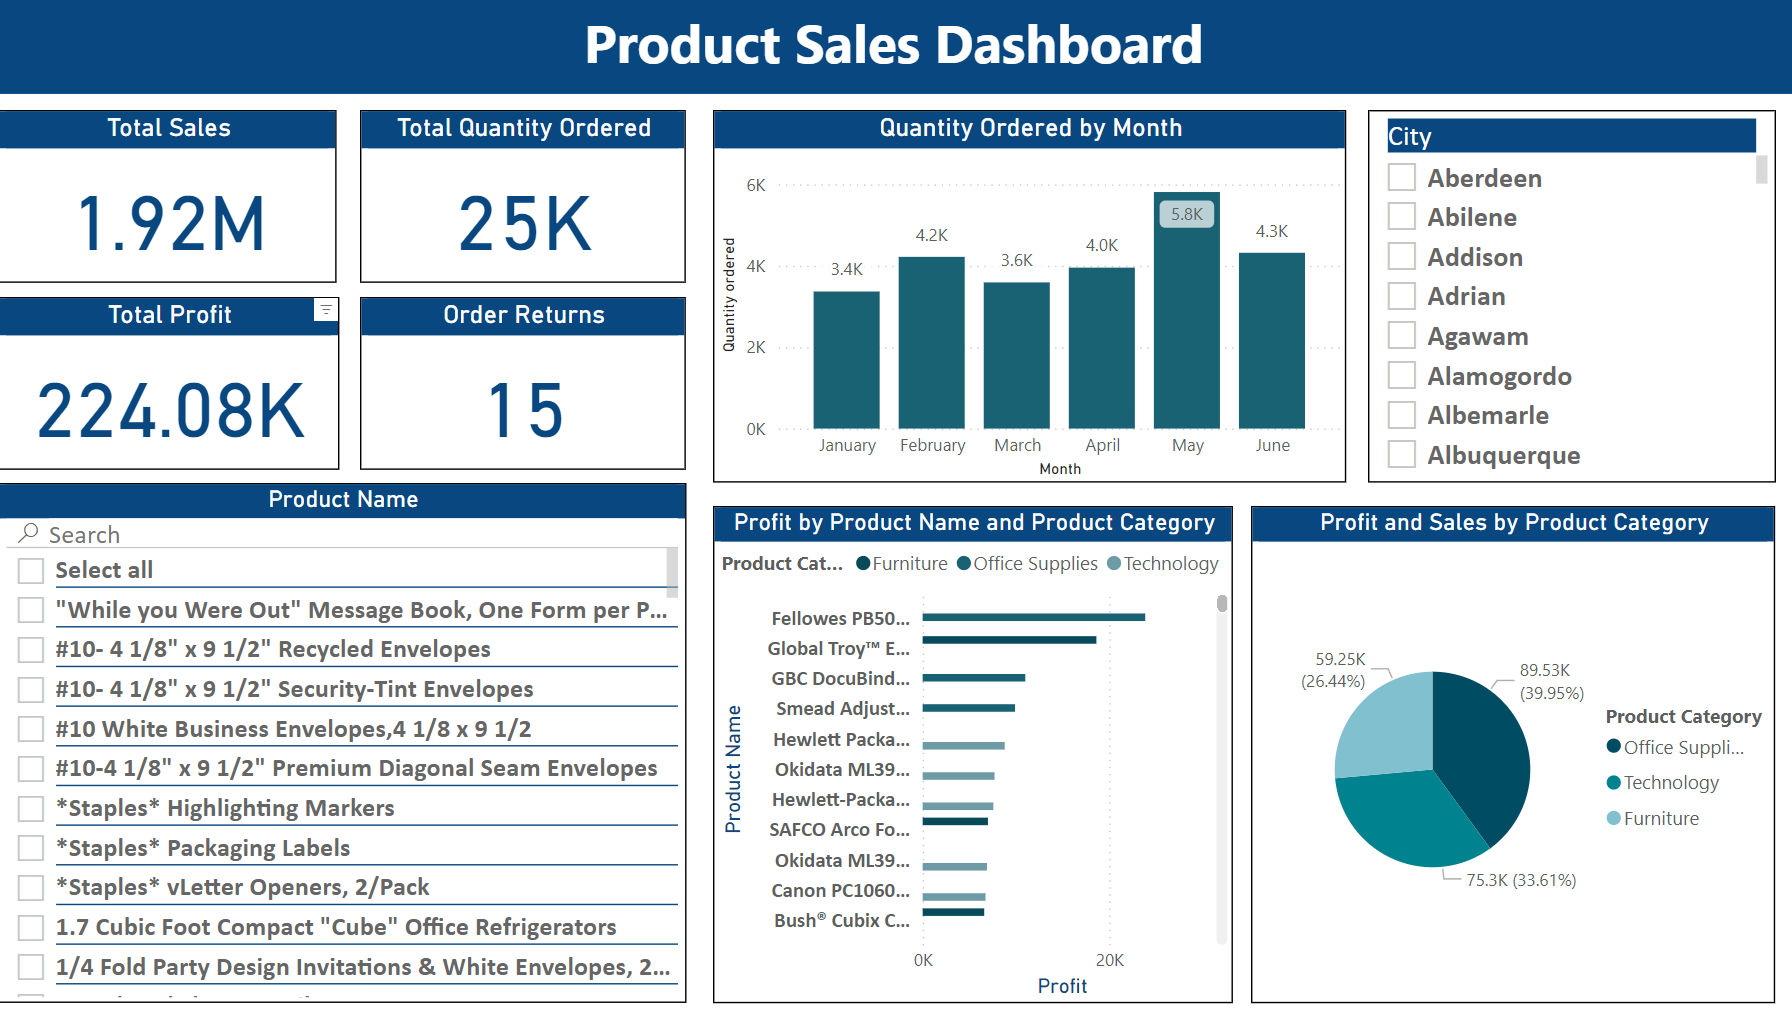

The page's visual inventory and layout, read from the dashboard file:
{"tool":"powerbi","page":{"name":"Revised Product Sales Dashboard","canvas":[1280,720],"ordinal":5},"visuals":[{"type":"textbox","box":[9.6,0,1270.4,67.4],"z":0},{"type":"card","title":"Total Sales","fields":{"Values":["Sum(Orders.Sales)"]},"box":[12.4,78.5,239.5,122.5],"z":1000},{"type":"card","title":"Total Profit","fields":{"Values":["Sum(Orders.Profit)"]},"box":[12.4,210.6,240.9,122.5],"z":2000},{"type":"card","title":"Order Returns","fields":{"Values":["CountNonNull(Orders.Returned orders)"]},"box":[268.4,210.6,229.8,122.5],"z":3000},{"type":"pieChart","fields":{"Category":["Orders.Product Category"],"Y":["Sum(Orders.Profit)"]},"box":[897.4,357.8,370.2,351],"z":4000},{"type":"slicer","title":"Product Name","fields":{"Values":["Orders.Product Name"]},"box":[12.4,341.3,485.8,367.5],"z":5000},{"type":"lineStackedColumnComboChart","title":"Quantity Ordered by Month","fields":{"Y":["Sum(Orders.Quantity ordered new)"],"Category":["Orders.Order Date.Variation.Date Hierarchy.Month"]},"box":[517.5,78.5,447.3,262.9],"z":6000},{"type":"clusteredBarChart","fields":{"Series":["Orders.Product Category"],"Y":["Sum(Orders.Profit)"],"Category":["Orders.Product Name"]},"box":[517.5,357.8,367.5,351],"z":7000},{"type":"slicer","title":"City","fields":{"Values":["Orders.City"]},"box":[980,78.5,287.7,262.9],"z":8000},{"type":"card","title":"Total Quantity Ordered","fields":{"Values":["Sum(Orders.Quantity ordered new)"]},"box":[268.4,78.5,229.8,122.5],"z":9000}]}

Visuals, with their boxes in screenshot pixels (x1, y1, x2, y2), scaled from the page's 1280x720 canvas onto the 1792x1011 screenshot:
textbox: 13:0:1791:95
"Total Sales" card: 17:110:353:282
"Total Profit" card: 17:296:355:468
"Order Returns" card: 376:296:697:468
pieChart - Orders.Product Category x Sum(Orders.Profit): 1256:502:1775:995
"Product Name" slicer: 17:479:697:995
"Quantity Ordered by Month" lineStackedColumnComboChart: 724:110:1351:479
clusteredBarChart - Orders.Product Category x Sum(Orders.Profit): 724:502:1239:995
"City" slicer: 1372:110:1775:479
"Total Quantity Ordered" card: 376:110:697:282
